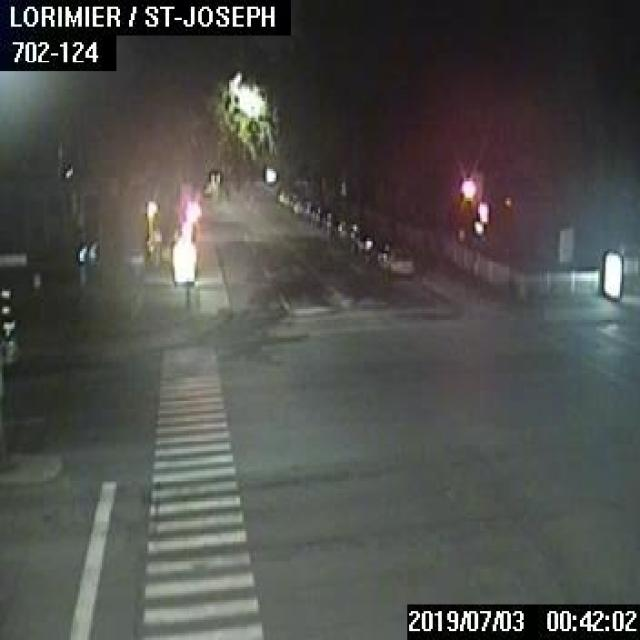vehicle: (376, 242, 414, 275), (356, 230, 382, 260)
